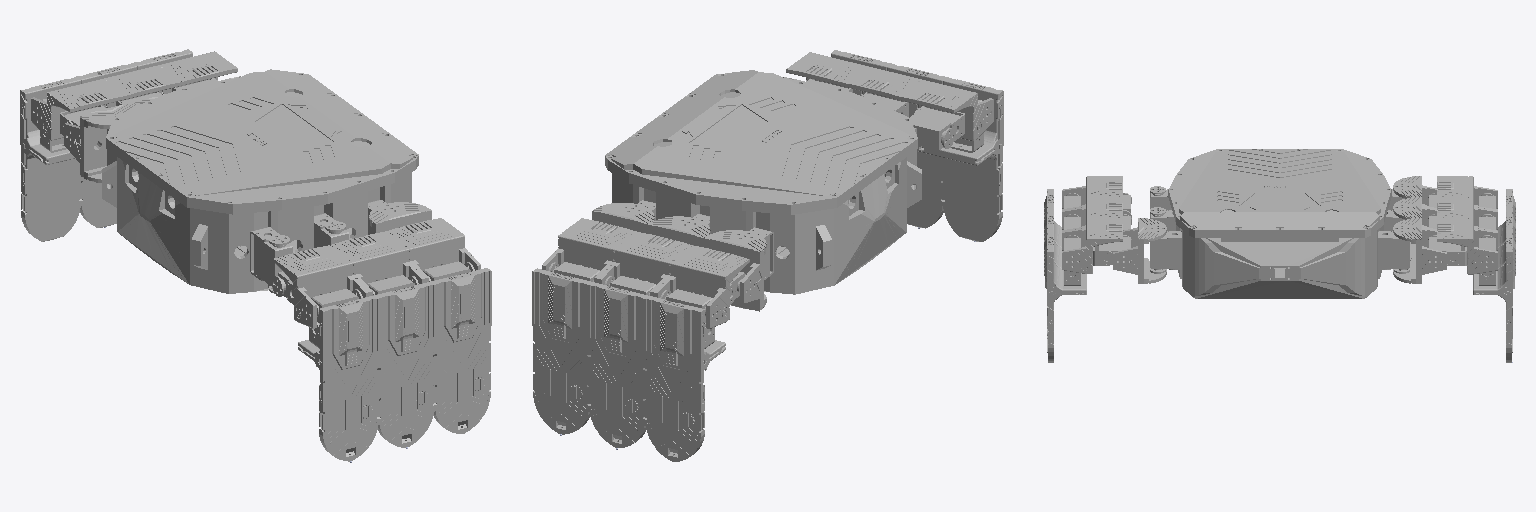
--- Facts derived from the render (not from the file) ---
The picture shows the robot from 3 angles, left to right: view 1: azimuth 30°, elevation 25°; view 2: azimuth 150°, elevation 25°; view 3: azimuth 270°, elevation 25°; orthographic projection.
Model Leizhuo_UnderWaterHexapodRobot with 37 links and 36 joints (36 revolute), rooted at base_link, posed every joint at zero.
Visible links, largest first — view 1: base_link, RB_XI_LINK, RM_XI_LINK, RF_XI_LINK, LB_XI_LINK, RB_ZHOU_LINK, LB_ZHOU_LINK, RF_ZHOU_LINK, RM_ZHOU_LINK, LB_JIAN_LINK, LM_ZHOU_LINK, LM_XI_LINK (+2 smaller); view 2: base_link, LB_XI_LINK, LM_XI_LINK, LF_XI_LINK, RB_XI_LINK, RB_ZHOU_LINK, LB_ZHOU_LINK, LF_ZHOU_LINK, LM_ZHOU_LINK, LB_JIAN_LINK, RM_XI_LINK, RM_ZHOU_LINK (+3 smaller); view 3: base_link, LF_ZHOU_LINK, RF_ZHOU_LINK, RF_XI_LINK, LF_XI_LINK, RF_JIAN_LINK, LF_JIAN_LINK, RB_ZHOU_LINK, RM_ZHOU_LINK, LB_ZHOU_LINK, LM_ZHOU_LINK, LM_JIAN_LINK (+5 smaller).
Link boxes in pixels (box(x1,y1,x2,y2)): base_link: box(102, 69, 418, 293); RB_XI_LINK: box(298, 289, 378, 461); RM_XI_LINK: box(367, 275, 435, 447); RF_XI_LINK: box(423, 261, 491, 433); LB_XI_LINK: box(20, 76, 80, 241); RB_ZHOU_LINK: box(272, 245, 368, 328); LB_ZHOU_LINK: box(31, 79, 125, 145); RF_ZHOU_LINK: box(386, 218, 480, 282); RM_ZHOU_LINK: box(330, 231, 424, 295); LB_JIAN_LINK: box(64, 102, 138, 183); LM_ZHOU_LINK: box(104, 65, 181, 107); LM_XI_LINK: box(77, 63, 136, 227); base_link: box(605, 70, 921, 294); LB_XI_LINK: box(645, 289, 725, 461); LM_XI_LINK: box(588, 276, 655, 447); LF_XI_LINK: box(532, 262, 599, 434); RB_XI_LINK: box(922, 77, 1003, 241); RB_ZHOU_LINK: box(898, 80, 993, 149); LB_ZHOU_LINK: box(654, 246, 749, 328); LF_ZHOU_LINK: box(542, 218, 636, 282); LM_ZHOU_LINK: box(598, 232, 693, 296); LB_JIAN_LINK: box(704, 230, 766, 311); RM_XI_LINK: box(887, 63, 946, 228); RM_ZHOU_LINK: box(842, 66, 921, 117); base_link: box(1150, 149, 1409, 298); LF_ZHOU_LINK: box(1428, 218, 1497, 274); RF_ZHOU_LINK: box(1062, 218, 1131, 273); RF_XI_LINK: box(1044, 231, 1086, 362); LF_XI_LINK: box(1473, 231, 1515, 362); RF_JIAN_LINK: box(1113, 218, 1166, 283); LF_JIAN_LINK: box(1393, 218, 1446, 283); RB_ZHOU_LINK: box(1062, 176, 1131, 217); RM_ZHOU_LINK: box(1062, 197, 1131, 231); LB_ZHOU_LINK: box(1428, 176, 1497, 210); LM_ZHOU_LINK: box(1428, 197, 1497, 231); LM_JIAN_LINK: box(1393, 197, 1436, 260).
Size in the robot's own frame: 0.2538 by 0.5776 by 0.2119 metres.
Meshes: 37 distinct files referenced, 23 mesh visuals loaded (23 binary STL); not drawn: 14 (reference not matched to a file when rendering).

The robot description file, URDF, robot "Leizhuo_UnderWaterHexapodRobot":
<?xml version="1.0" encoding="utf-8"?>
<!-- This URDF was automatically created by SolidWorks to URDF Exporter! Originally created by Stephen Brawner ([email redacted]) 
     Commit Version: 1.6.0-4-g7f85cfe  Build Version: 1.6.7995.38578
     For more information, please see http://wiki.ros.org/sw_urdf_exporter -->
<robot
  name="Leizhuo_UnderWaterHexapodRobot">
  <link
    name="base_link">
    <inertial>
      <origin
        xyz="0.0140644642154403 8.12148635065402E-07 -0.00285537249700155"
        rpy="0 0 0" />
      <mass
        value="1.86312414553283" />
      <inertia
        ixx="0.0103958684186078"
        ixy="4.19274043488902E-07"
        ixz="-0.00029958408384001"
        iyy="0.0108668461966651"
        iyz="5.17077755968618E-07"
        izz="0.0189300328088789" />
    </inertial>
    <visual>
      <origin
        xyz="0 0 0"
        rpy="0 0 0" />
      <geometry>
        <mesh
          filename="package://Leizhuo_UnderWaterHexapodRobot/meshes/base_link.STL" />
      </geometry>
      <material
        name="">
        <color
          rgba="0.752941176470588 0.752941176470588 0.752941176470588 1" />
      </material>
    </visual>
    <collision>
      <origin
        xyz="0 0 0"
        rpy="0 0 0" />
      <geometry>
        <mesh
          filename="package://Leizhuo_UnderWaterHexapodRobot/meshes/base_link.STL" />
      </geometry>
    </collision>
  </link>
  <link
    name="RM_JIAN_LINK">
    <inertial>
      <origin
        xyz="0.0196773637758696 5.55111512312578E-17 -5.16151762313538E-06"
        rpy="0 0 0" />
      <mass
        value="0.0549972808983075" />
      <inertia
        ixx="4.23010594926854E-05"
        ixy="-1.3566991482621E-21"
        ixz="1.35585489027472E-09"
        iyy="2.86824937380955E-05"
        iyz="-1.50417145504381E-21"
        izz="2.6351810532033E-05" />
    </inertial>
    <visual>
      <origin
        xyz="0 0 0"
        rpy="0 0 0" />
      <geometry>
        <mesh
          filename="package://Leizhuo_UnderWaterHexapodRobot/meshes/RM_JIAN_LINK.STL" />
      </geometry>
      <material
        name="">
        <color
          rgba="0.752941176470588 0.752941176470588 0.752941176470588 1" />
      </material>
    </visual>
    <collision>
      <origin
        xyz="0 0 0"
        rpy="0 0 0" />
      <geometry>
        <mesh
          filename="package://Leizhuo_UnderWaterHexapodRobot/meshes/RM_JIAN_LINK.STL" />
      </geometry>
    </collision>
  </link>
  <joint
    name="RM_JIAN_JOINT"
    type="revolute">
    <origin
      xyz="0 -0.14979 -0.0032"
      rpy="0 0 -1.5708" />
    <parent
      link="base_link" />
    <child
      link="RM_JIAN_LINK" />
    <axis
      xyz="0 0 1" />
    <limit
      lower="-1.5708"
      upper="1.5708"
      effort="0"
      velocity="0" />
  </joint>
  <link
    name="RM_ZHOU_LINK">
    <inertial>
      <origin
        xyz="0.0273253277440405 0.00746540118277407 4.77014552013322E-05"
        rpy="0 0 0" />
      <mass
        value="0.0896688686339838" />
      <inertia
        ixx="3.90649680814428E-05"
        ixy="7.26305459227445E-06"
        ixz="6.19794490507559E-08"
        iyy="4.18346884886829E-05"
        iyz="-1.1410981612624E-10"
        izz="2.91896419363059E-05" />
    </inertial>
    <visual>
      <origin
        xyz="0 0 0"
        rpy="0 0 0" />
      <geometry>
        <mesh
          filename="package://Leizhuo_UnderWaterHexapodRobot/meshes/RM_ZHOU_LINK.STL" />
      </geometry>
      <material
        name="">
        <color
          rgba="0.752941176470588 0.752941176470588 0.752941176470588 1" />
      </material>
    </visual>
    <collision>
      <origin
        xyz="0 0 0"
        rpy="0 0 0" />
      <geometry>
        <mesh
          filename="package://Leizhuo_UnderWaterHexapodRobot/meshes/RM_ZHOU_LINK.STL" />
      </geometry>
    </collision>
  </link>
  <joint
    name="RM_ZHOU_JOINT"
    type="revolute">
    <origin
      xyz="0.0415 -0.0004 0"
      rpy="1.5708 0 0" />
    <parent
      link="RM_JIAN_LINK" />
    <child
      link="RM_ZHOU_LINK" />
    <axis
      xyz="0 0 1" />
    <limit
      lower="-1.5708"
      upper="1.5708"
      effort="0"
      velocity="0" />
  </joint>
  <link
    name="RM_XI_LINK">
    <inertial>
      <origin
        xyz="0.0456240041232431 0.016713303171313 -4.28951188229942E-05"
        rpy="0 0 0" />
      <mass
        value="0.151186314817192" />
      <inertia
        ixx="5.25757095356791E-05"
        ixy="-6.3554697994671E-06"
        ixz="4.66190861095013E-08"
        iyy="0.000227814075117788"
        iyz="7.31689308620056E-09"
        izz="0.000204493892166539" />
    </inertial>
    <visual>
      <origin
        xyz="0 0 0"
        rpy="0 0 0" />
      <geometry>
        <mesh
          filename="package://Leizhuo_UnderWaterHexapodRobot/meshes/RM_XI_LINK.STL" />
      </geometry>
      <material
        name="">
        <color
          rgba="0.752941176470588 0.752941176470588 0.752941176470588 1" />
      </material>
    </visual>
    <collision>
      <origin
        xyz="0 0 0"
        rpy="0 0 0" />
      <geometry>
        <mesh
          filename="package://Leizhuo_UnderWaterHexapodRobot/meshes/RM_XI_LINK.STL" />
      </geometry>
    </collision>
  </link>
  <joint
    name="RM_XI_JOINT"
    type="revolute">
    <origin
      xyz="0.063 0 -0.0004"
      rpy="0 0 -1.5708" />
    <parent
      link="RM_ZHOU_LINK" />
    <child
      link="RM_XI_LINK" />
    <axis
      xyz="0 0 -1" />
    <limit
      lower="-1.5708"
      upper="1.5708"
      effort="0"
      velocity="0" />
  </joint>
  <link
    name="RM_R_LINK">
    <inertial>
      <origin
        xyz="-5.55111512312578E-17 0 -2.77555756156289E-17"
        rpy="0 0 0" />
      <mass
        value="4.18879020478639E-06" />
      <inertia
        ixx="1.67551608191456E-12"
        ixy="3.58732406867153E-43"
        ixz="9.18354961579912E-41"
        iyy="1.67551608191456E-12"
        iyz="-4.37989597684327E-38"
        izz="1.67551608191456E-12" />
    </inertial>
    <visual>
      <origin
        xyz="0 0 0"
        rpy="0 0 0" />
      <geometry>
        <mesh
          filename="package://Leizhuo_UnderWaterHexapodRobot/meshes/RM_R_LINK.STL" />
      </geometry>
      <material
        name="">
        <color
          rgba="0.792156862745098 0.819607843137255 0.933333333333333 1" />
      </material>
    </visual>
    <collision>
      <origin
        xyz="0 0 0"
        rpy="0 0 0" />
      <geometry>
        <mesh
          filename="package://Leizhuo_UnderWaterHexapodRobot/meshes/RM_R_LINK.STL" />
      </geometry>
    </collision>
  </link>
  <joint
    name="RM_R_JOINT"
    type="revolute">
    <origin
      xyz="0.15047 0.0305 0"
      rpy="3.1416 1.5708 0" />
    <parent
      link="RM_XI_LINK" />
    <child
      link="RM_R_LINK" />
    <axis
      xyz="0 0 -1" />
    <limit
      lower="-1.5708"
      upper="1.5708"
      effort="0"
      velocity="0" />
  </joint>
  <link
    name="RM_P_LINK">
    <inertial>
      <origin
        xyz="2.77555756156289E-17 0 -5.55111512312578E-17"
        rpy="0 0 0" />
      <mass
        value="4.18879020478639E-06" />
      <inertia
        ixx="1.67551608191456E-12"
        ixy="4.37989597684327E-38"
        ixz="0"
        iyy="1.67551608191456E-12"
        iyz="3.58732406867153E-43"
        izz="1.67551608191456E-12" />
    </inertial>
    <visual>
      <origin
        xyz="0 0 0"
        rpy="0 0 0" />
      <geometry>
        <mesh
          filename="package://Leizhuo_UnderWaterHexapodRobot/meshes/RM_P_LINK.STL" />
      </geometry>
      <material
        name="">
        <color
          rgba="0.792156862745098 0.819607843137255 0.933333333333333 1" />
      </material>
    </visual>
    <collision>
      <origin
        xyz="0 0 0"
        rpy="0 0 0" />
      <geometry>
        <mesh
          filename="package://Leizhuo_UnderWaterHexapodRobot/meshes/RM_P_LINK.STL" />
      </geometry>
    </collision>
  </link>
  <joint
    name="RM_P_LINK"
    type="revolute">
    <origin
      xyz="0 0 0"
      rpy="0 1.5708 0" />
    <parent
      link="RM_R_LINK" />
    <child
      link="RM_P_LINK" />
    <axis
      xyz="0 0 -1" />
    <limit
      lower="-1.5708"
      upper="1.5708"
      effort="0"
      velocity="0" />
  </joint>
  <link
    name="RM_Y_LINK">
    <inertial>
      <origin
        xyz="2.77555756156289E-17 -5.55111512312578E-17 0"
        rpy="0 0 0" />
      <mass
        value="4.18879020478639E-06" />
      <inertia
        ixx="1.67551608191456E-12"
        ixy="-9.18354961579912E-41"
        ixz="-4.37988700853309E-38"
        iyy="1.67551608191456E-12"
        iyz="0"
        izz="1.67551608191456E-12" />
    </inertial>
    <visual>
      <origin
        xyz="0 0 0"
        rpy="0 0 0" />
      <geometry>
        <mesh
          filename="package://Leizhuo_UnderWaterHexapodRobot/meshes/RM_Y_LINK.STL" />
      </geometry>
      <material
        name="">
        <color
          rgba="0.792156862745098 0.819607843137255 0.933333333333333 1" />
      </material>
    </visual>
    <collision>
      <origin
        xyz="0 0 0"
        rpy="0 0 0" />
      <geometry>
        <mesh
          filename="package://Leizhuo_UnderWaterHexapodRobot/meshes/RM_Y_LINK.STL" />
      </geometry>
    </collision>
  </link>
  <joint
    name="RM_Y_JOINT"
    type="revolute">
    <origin
      xyz="0 0 0"
      rpy="1.5708 0 0" />
    <parent
      link="RM_P_LINK" />
    <child
      link="RM_Y_LINK" />
    <axis
      xyz="0 0 -1" />
    <limit
      lower="-1.5708"
      upper="1.5708"
      effort="0"
      velocity="0" />
  </joint>
  <link
    name="RF_JIAN_LINK">
    <inertial>
      <origin
        xyz="0.0196773637758696 5.55111512312578E-17 -5.16151762312844E-06"
        rpy="0 0 0" />
      <mass
        value="0.0549972808983075" />
      <inertia
        ixx="4.23010594926854E-05"
        ixy="3.17831599643912E-21"
        ixz="1.35585489027564E-09"
        iyy="2.86824937380955E-05"
        iyz="2.81893688903335E-21"
        izz="2.6351810532033E-05" />
    </inertial>
    <visual>
      <origin
        xyz="0 0 0"
        rpy="0 0 0" />
      <geometry>
        <mesh
          filename="package://Leizhuo_UnderWaterHexapodRobot/meshes/RF_JIAN_LINK.STL" />
      </geometry>
      <material
        name="">
        <color
          rgba="0.752941176470588 0.752941176470588 0.752941176470588 1" />
      </material>
    </visual>
    <collision>
      <origin
        xyz="0 0 0"
        rpy="0 0 0" />
      <geometry>
        <mesh
          filename="package://Leizhuo_UnderWaterHexapodRobot/meshes/RF_JIAN_LINK.STL" />
      </geometry>
    </collision>
  </link>
  <joint
    name="RF_JIAN_JOINT"
    type="revolute">
    <origin
      xyz="0.061 -0.14979 -0.0032"
      rpy="0 0 -1.5708" />
    <parent
      link="base_link" />
    <child
      link="RF_JIAN_LINK" />
    <axis
      xyz="0 0 1" />
    <limit
      lower="-1.5708"
      upper="1.5708"
      effort="0"
      velocity="0" />
  </joint>
  <link
    name="RF_ZHOU_LINK">
    <inertial>
      <origin
        xyz="0.0273253277440404 0.00746540118277408 4.77014552013322E-05"
        rpy="0 0 0" />
      <mass
        value="0.0896688686339835" />
      <inertia
        ixx="3.90649680814426E-05"
        ixy="7.26305459227434E-06"
        ixz="6.19794490508564E-08"
        iyy="4.18346884886825E-05"
        iyz="-1.14109816095196E-10"
        izz="2.91896419363056E-05" />
    </inertial>
    <visual>
      <origin
        xyz="0 0 0"
        rpy="0 0 0" />
      <geometry>
        <mesh
          filename="package://Leizhuo_UnderWaterHexapodRobot/meshes/RF_ZHOU_LINK.STL" />
      </geometry>
      <material
        name="">
        <color
          rgba="0.752941176470588 0.752941176470588 0.752941176470588 1" />
      </material>
    </visual>
    <collision>
      <origin
        xyz="0 0 0"
        rpy="0 0 0" />
      <geometry>
        <mesh
          filename="package://Leizhuo_UnderWaterHexapodRobot/meshes/RF_ZHOU_LINK.STL" />
      </geometry>
    </collision>
  </link>
  <joint
    name="RF_ZHOU_JOINT"
    type="revolute">
    <origin
      xyz="0.0415 -0.0004 0"
      rpy="1.5708 0 0" />
    <parent
      link="RF_JIAN_LINK" />
    <child
      link="RF_ZHOU_LINK" />
    <axis
      xyz="0 0 1" />
    <limit
      lower="-1.5708"
      upper="1.5708"
      effort="0"
      velocity="0" />
  </joint>
  <link
    name="RF_XI_LINK">
    <inertial>
      <origin
        xyz="0.0456240042302304 0.0167133031666421 -4.28951844866909E-05"
        rpy="0 0 0" />
      <mass
        value="0.151186314373616" />
      <inertia
        ixx="5.25757092902444E-05"
        ixy="-6.35546973733345E-06"
        ixz="4.66185774839964E-08"
        iyy="0.00022781407378131"
        iyz="7.31686178510528E-09"
        izz="0.000204493891057307" />
    </inertial>
    <visual>
      <origin
        xyz="0 0 0"
        rpy="0 0 0" />
      <geometry>
        <mesh
          filename="package://Leizhuo_UnderWaterHexapodRobot/meshes/RF_XI_LINK.STL" />
      </geometry>
      <material
        name="">
        <color
          rgba="0.752941176470588 0.752941176470588 0.752941176470588 1" />
      </material>
    </visual>
    <collision>
      <origin
        xyz="0 0 0"
        rpy="0 0 0" />
      <geometry>
        <mesh
          filename="package://Leizhuo_UnderWaterHexapodRobot/meshes/RF_XI_LINK.STL" />
      </geometry>
    </collision>
  </link>
  <joint
    name="RF_XI_JOINT"
    type="revolute">
    <origin
      xyz="0.063 0 -0.0004"
      rpy="0 0 -1.5708" />
    <parent
      link="RF_ZHOU_LINK" />
    <child
      link="RF_XI_LINK" />
    <axis
      xyz="0 0 -1" />
    <limit
      lower="-1.5708"
      upper="1.5708"
      effort="0"
      velocity="0" />
  </joint>
  <link
    name="RF_R_LINK">
    <inertial>
      <origin
        xyz="-5.55111512312578E-17 0 0"
        rpy="0 0 0" />
      <mass
        value="4.18879020478639E-06" />
      <inertia
        ixx="1.67551608191456E-12"
        ixy="3.58732406867153E-43"
        ixz="9.18354961579912E-41"
        iyy="1.67551608191456E-12"
        iyz="-4.37989597684327E-38"
        izz="1.67551608191456E-12" />
    </inertial>
    <visual>
      <origin
        xyz="0 0 0"
        rpy="0 0 0" />
      <geometry>
        <mesh
          filename="package://Leizhuo_UnderWaterHexapodRobot/meshes/RF_R_LINK.STL" />
      </geometry>
      <material
        name="">
        <color
          rgba="0.792156862745098 0.819607843137255 0.933333333333333 1" />
      </material>
    </visual>
    <collision>
      <origin
        xyz="0 0 0"
        rpy="0 0 0" />
      <geometry>
        <mesh
          filename="package://Leizhuo_UnderWaterHexapodRobot/meshes/RF_R_LINK.STL" />
      </geometry>
    </collision>
  </link>
  <joint
    name="RF_R_JOINT"
    type="revolute">
    <origin
      xyz="0.15047 0.0305 0"
      rpy="3.1416 1.5708 0" />
    <parent
      link="RF_XI_LINK" />
    <child
      link="RF_R_LINK" />
    <axis
      xyz="0 0 -1" />
    <limit
      lower="-1.5708"
      upper="1.5708"
      effort="0"
      velocity="0" />
  </joint>
  <link
    name="RF_P_LINK">
    <inertial>
      <origin
        xyz="0 0 -5.55111512312578E-17"
        rpy="0 0 0" />
      <mass
        value="4.18879020478639E-06" />
      <inertia
        ixx="1.67551608191456E-12"
        ixy="4.37989597684327E-38"
        ixz="0"
        iyy="1.67551608191456E-12"
        iyz="3.58732406867153E-43"
        izz="1.67551608191456E-12" />
    </inertial>
    <visual>
      <origin
        xyz="0 0 0"
        rpy="0 0 0" />
      <geometry>
        <mesh
          filename="package://Leizhuo_UnderWaterHexapodRobot/meshes/RF_P_LINK.STL" />
      </geometry>
      <material
        name="">
        <color
          rgba="0.792156862745098 0.819607843137255 0.933333333333333 1" />
      </material>
    </visual>
    <collision>
      <origin
        xyz="0 0 0"
        rpy="0 0 0" />
      <geometry>
        <mesh
          filename="package://Leizhuo_UnderWaterHexapodRobot/meshes/RF_P_LINK.STL" />
      </geometry>
    </collision>
  </link>
  <joint
    name="RF_P_JOINT"
    type="revolute">
    <origin
      xyz="0 0 0"
      rpy="0 1.5708 0" />
    <parent
      link="RF_R_LINK" />
    <child
      link="RF_P_LINK" />
    <axis
      xyz="0 0 -1" />
    <limit
      lower="-1.5708"
      upper="1.5708"
      effort="0"
      velocity="0" />
  </joint>
  <link
    name="RF_Y_LINK">
    <inertial>
      <origin
        xyz="0 -5.55111512312578E-17 0"
        rpy="0 0 0" />
      <mass
        value="4.18879020478639E-06" />
      <inertia
        ixx="1.67551608191456E-12"
        ixy="-9.18354961579912E-41"
        ixz="-4.37988700853309E-38"
        iyy="1.67551608191456E-12"
        iyz="0"
        izz="1.67551608191456E-12" />
    </inertial>
    <visual>
      <origin
        xyz="0 0 0"
        rpy="0 0 0" />
      <geometry>
        <mesh
          filename="package://Leizhuo_UnderWaterHexapodRobot/meshes/RF_Y_LINK.STL" />
      </geometry>
      <material
        name="">
        <color
          rgba="0.792156862745098 0.819607843137255 0.933333333333333 1" />
      </material>
    </visual>
    <collision>
      <origin
        xyz="0 0 0"
        rpy="0 0 0" />
      <geometry>
        <mesh
          filename="package://Leizhuo_UnderWaterHexapodRobot/meshes/RF_Y_LINK.STL" />
      </geometry>
    </collision>
  </link>
  <joint
    name="RF_Y_JOINT"
    type="revolute">
    <origin
      xyz="0 0 0"
      rpy="1.5708 0 0" />
    <parent
      link="RF_P_LINK" />
    <child
      link="RF_Y_LINK" />
    <axis
      xyz="0 0 -1" />
    <limit
      lower="-1.5708"
      upper="1.5708"
      effort="0"
      velocity="0" />
  </joint>
  <link
    name="LF_JIAN_LINK">
    <inertial>
      <origin
        xyz="0.0196773637758696 -5.55111512312578E-17 -5.16151762314232E-06"
        rpy="0 0 0" />
      <mass
        value="0.0549972808983075" />
      <inertia
        ixx="4.23010594926854E-05"
        ixy="7.45006923162369E-21"
        ixz="1.35585489027197E-09"
        iyy="2.86824937380955E-05"
        iyz="3.35178306925782E-21"
        izz="2.6351810532033E-05" />
    </inertial>
    <visual>
      <origin
        xyz="0 0 0"
        rpy="0 0 0" />
      <geometry>
        <mesh
          filename="package://Leizhuo_UnderWaterHexapodRobot/meshes/LF_JIAN_LINK.STL" />
      </geometry>
      <material
        name="">
        <color
          rgba="0.752941176470588 0.752941176470588 0.752941176470588 1" />
      </material>
    </visual>
    <collision>
      <origin
        xyz="0 0 0"
        rpy="0 0 0" />
      <geometry>
        <mesh
          filename="package://Leizhuo_UnderWaterHexapodRobot/meshes/LF_JIAN_LINK.STL" />
      </geometry>
    </collision>
  </link>
  <joint
    name="LF_JIAN_JOINT"
    type="revolute">
    <origin
      xyz="0.061 0.14979 -0.0032"
      rpy="0 0 1.5708" />
    <parent
      link="base_link" />
    <child
      link="LF_JIAN_LINK" />
    <axis
      xyz="0 0 1" />
    <limit
      lower="-1.5708"
      upper="1.5708"
      effort="0"
      velocity="0" />
  </joint>
  <link
    name="LF_ZHOU_LINK">
    <inertial>
      <origin
        xyz="0.0273253277440404 0.00746540118277409 4.77014552012212E-05"
        rpy="0 0 0" />
      <mass
        value="0.0896688686339838" />
      <inertia
        ixx="3.90649680814427E-05"
        ixy="7.26305459227442E-06"
        ixz="6.19794490507996E-08"
        iyy="4.18346884886828E-05"
        iyz="-1.14109816157686E-10"
        izz="2.91896419363058E-05" />
    </inertial>
    <visual>
      <origin
        xyz="0 0 0"
        rpy="0 0 0" />
      <geometry>
        <mesh
          filename="package://Leizhuo_UnderWaterHexapodRobot/meshes/LF_ZHOU_LINK.STL" />
      </geometry>
      <material
        name="">
        <color
          rgba="0.752941176470588 0.752941176470588 0.752941176470588 1" />
      </material>
    </visual>
    <collision>
      <origin
        xyz="0 0 0"
        rpy="0 0 0" />
      <geometry>
        <mesh
          filename="package://Leizhuo_UnderWaterHexapodRobot/meshes/LF_ZHOU_LINK.STL" />
      </geometry>
    </collision>
  </link>
  <joint
    name="LF_ZHOU_JOINT"
    type="revolute">
    <origin
      xyz="0.0415 -0.0004 0"
      rpy="1.5708 0 0" />
    <parent
      link="LF_JIAN_LINK" />
    <child
      link="LF_ZHOU_LINK" />
    <axis
      xyz="0 0 1" />
    <limit
      lower="-1.5708"
      upper="1.5708"
      effort="0"
      velocity="0" />
  </joint>
  <link
    name="LF_XI_LINK">
    <inertial>
      <origin
        xyz="0.0456240041232434 0.0167133031713129 -4.28951188230497E-05"
        rpy="0 0 0" />
      <mass
        value="0.151186314817191" />
      <inertia
        ixx="5.25757095356789E-05"
        ixy="-6.35546979946716E-06"
        ixz="4.66190861086835E-08"
        iyy="0.000227814075117784"
        iyz="7.31689308622861E-09"
        izz="0.000204493892166536" />
    </inertial>
    <visual>
      <origin
        xyz="0 0 0"
        rpy="0 0 0" />
      <geometry>
        <mesh
          filename="package://Leizhuo_UnderWaterHexapodRobot/meshes/LF_XI_LINK.STL" />
      </geometry>
      <material
        name="">
        <color
          rgba="0.752941176470588 0.752941176470588 0.752941176470588 1" />
      </material>
    </visual>
    <collision>
      <origin
        xyz="0 0 0"
        rpy="0 0 0" />
      <geometry>
        <mesh
          filename="package://Leizhuo_UnderWaterHexapodRobot/meshes/LF_XI_LINK.STL" />
      </geometry>
    </collision>
  </link>
  <joint
    name="LF_XI_JOINT"
    type="revolute">
    <origin
      xyz="0.063 0 -0.0004"
      rpy="0 0 -1.5708" />
    <parent
      link="LF_ZHOU_LINK" />
    <child
      link="LF_XI_LINK" />
    <axis
      xyz="0 0 -1" />
    <limit
      lower="-1.5708"
      upper="1.5708"
      effort="0"
      velocity="0" />
  </joint>
  <link
    name="LF_R_LINK">
    <inertial>
      <origin
        xyz="0 5.55111512312578E-17 0"
        rpy="0 0 0" />
      <mass
        value="4.18879020478639E-06" />
      <inertia
        ixx="1.67551608191456E-12"
        ixy="3.58732406867153E-43"
        ixz="9.18354961579912E-41"
        iyy="1.67551608191456E-12"
        iyz="-4.37989597684327E-38"
        izz="1.67551608191456E-12" />
    </inertial>
    <visual>
      <origin
        xyz="0 0 0"
        rpy="0 0 0" />
      <geometry>
        <mesh
          filename="package://Leizhuo_UnderWaterHexapodRobot/meshes/LF_R_LINK.STL" />
      </geometry>
      <material
        name="">
        <color
          rgba="0.792156862745098 0.819607843137255 0.933333333333333 1" />
      </material>
    </visual>
    <collision>
      <origin
        xyz="0 0 0"
        rpy="0 0 0" />
      <geometry>
        <mesh
          filename="package://Leizhuo_UnderWaterHexapodRobot/meshes/LF_R_LINK.STL" />
      </geometry>
    </collision>
  </link>
  <joint
    name="LF_R_JOINT"
    type="revolute">
    <origin
      xyz="0.15047 0.0305 0"
      rpy="3.1416 -1.5708 0" />
    <parent
      link="LF_XI_LINK" />
    <child
      link="LF_R_LINK" />
    <axis
      xyz="0 0 -1" />
    <limit
      lower="-1.5708"
      upper="1.5708"
      effort="0"
      velocity="0" />
  </joint>
  <link
    name="LF_P_LINK">
    <inertial>
      <origin
        xyz="0 5.55111512312578E-17 0"
        rpy="0 0 0" />
      <mass
        value="4.18879020478639E-06" />
      <inertia
        ixx="1.67551608191456E-12"
        ixy="4.37989597684327E-38"
        ixz="0"
        iyy="1.67551608191456E-12"
        iyz="3.58732406867153E-43"
        izz="1.67551608191456E-12" />
    </inertial>
    <visual>
      <origin
        xyz="0 0 0"
        rpy="0 0 0" />
      <geometry>
        <mesh
          filename="package://Leizhuo_UnderWaterHexapodRobot/meshes/LF_P_LINK.STL" />
      </geometry>
      <material
        name="">
        <color
          rgba="0.792156862745098 0.819607843137255 0.933333333333333 1" />
      </material>
    </visual>
    <collision>
      <origin
        xyz="0 0 0"
        rpy="0 0 0" />
      <geometry>
        <mesh
          filename="package://Leizhuo_UnderWaterHexapodRobot/meshes/LF_P_LINK.STL" />
      </geometry>
    </collision>
  </link>
  <joint
    name="LF_P_JOINT"
    type="revolute">
    <origin
      xyz="0 0 0"
      rpy="0 1.5708 0" />
    <parent
      link="LF_R_LINK" />
    <child
      link="LF_P_LINK" />
    <axis
      xyz="0 0 -1" />
    <limit
      lower="-1.5708"
      upper="1.5708"
      effort="0"
      velocity="0" />
  </joint>
  <link
    name="LF_Y_LINK">
    <inertial>
      <origin
        xyz="0 0 -5.55111512312578E-17"
        rpy="0 0 0" />
      <mass
        value="4.18879020478639E-06" />
      <inertia
        ixx="1.67551608191456E-12"
        ixy="-9.18354961579912E-41"
        ixz="-4.37988700853309E-38"
        iyy="1.67551608191456E-12"
        iyz="0"
        izz="1.67551608191456E-12" />
    </inertial>
    <visual>
      <origin
        xyz="0 0 0"
        rpy="0 0 0" />
      <geometry>
        <mesh
          filename="package://Leizhuo_UnderWaterHexapodRobot/meshes/LF_Y_LINK.STL" />
      </geometry>
      <material
        name="">
        <color
          rgba="0.792156862745098 0.819607843137255 0.933333333333333 1" />
      </material>
    </visual>
    <collision>
      <origin
        xyz="0 0 0"
        rpy="0 0 0" />
      <geometry>
        <mesh
          filename="package://Leizhuo_UnderWaterHexapodRobot/meshes/LF_Y_LINK.STL" />
      </geometry>
    </collision>
  </link>
  <joint
    name="LF_Y_JOINT"
    type="revolute">
    <origin
      xyz="0 0 0"
      rpy="1.5708 0 0" />
    <parent
      link="LF_P_LINK" />
    <child
      link="LF_Y_LINK" />
    <axis
      xyz="0 0 -1" />
    <limit
      lower="-1.5708"
      upper="1.5708"
      effort="0"
      velocity="0" />
  </joint>
  <link
    name="LM_JIAN_LINK">
    <inertial>
      <origin
        xyz="0.0196773637758696 -5.55111512312578E-17 -5.16151762314926E-06"
        rpy="0 0 0" />
      <mass
        value="0.0549972808983076" />
      <inertia
        ixx="4.23010594926855E-05"
        ixy="1.36600939672745E-21"
        ixz="1.35585489027903E-09"
        iyy="2.86824937380956E-05"
        iyz="-2.09688676938112E-21"
        izz="2.63518105320331E-05" />
    </inertial>
    <visual>
      <origin
        xyz="0 0 0"
        rpy="0 0 0" />
      <geometry>
        <mesh
          filename="package://Leizhuo_UnderWaterHexapodRobot/meshes/LM_JIAN_LINK.STL" />
      </geometry>
      <material
        name="">
        <color
          rgba="0.752941176470588 0.752941176470588 0.752941176470588 1" />
      </material>
    </visual>
    <collision>
      <origin
        xyz="0 0 0"
        rpy="0 0 0" />
      <geometry>
        <mesh
          filename="package://Leizhuo_UnderWaterHexapodRobot/meshes/LM_JIAN_LINK.STL" />
      </geometry>
    </collision>
  </link>
  <joint
    name="LM_JIAN_JOINT"
    type="revolute">
    <origin
      xyz="0 0.14979 -0.0032"
      rpy="0 0 1.5708" />
    <parent
      link="base_link" />
    <child
      link="LM_JIAN_LINK" />
    <axis
      xyz="0 0 1" />
    <limit
      lower="-1.5708"
      upper="1.5708"
      effort="0"
      velocity="0" />
  </joint>
  <link
    name="LM_ZHOU_LINK">
    <inertial>
      <origin
        xyz="0.0273253277440405 0.00746540118277408 4.77014552012212E-05"
        rpy="0 0 0" />
      <mass
        value="0.0896688686339835" />
      <inertia
        ixx="3.90649680814426E-05"
        ixy="7.26305459227438E-06"
        ixz="6.19794490508138E-08"
        iyy="4.18346884886827E-05"
        iyz="-1.14109816126972E-10"
        izz="2.91896419363057E-05" />
    </inertial>
    <visual>
      <origin
        xyz="0 0 0"
        rpy="0 0 0" />
      <geometry>
        <mesh
          filename="package://Leizhuo_UnderWaterHexapodRobot/meshes/LM_ZHOU_LINK.STL" />
      </geometry>
      <material
        name="">
        <color
          rgba="0.752941176470588 0.752941176470588 0.752941176470588 1" />
      </material>
    </visual>
    <collision>
      <origin
        xyz="0 0 0"
        rpy="0 0 0" />
      <geometry>
        <mesh
          filename="package://Leizhuo_UnderWaterHexapodRobot/meshes/LM_ZHOU_LINK.STL" />
      </geometry>
    </collision>
  </link>
  <joint
    name="LM_ZHOU_JOINT"
    type="revolute">
    <origin
      xyz="0.0415 -0.0004 0"
      rpy="1.5708 0 0" />
    <parent
      link="LM_JIAN_LINK" />
    <child
      link="LM_ZHOU_LINK" />
    <axis
      xyz="0 0 1" />
    <limit
      lower="-1.5708"
      upper="1.5708"
      effort="0"
      velocity="0" />
  </joint>
  <link
    name="LM_XI_LINK">
    <inertial>
      <origin
        xyz="0.0456240042302298 0.0167133031666421 -4.28951844865799E-05"
        rpy="0 0 0" />
      <mass
        value="0.151186314373618" />
      <inertia
        ixx="5.25757092902447E-05"
        ixy="-6.35546973733313E-06"
        ixz="4.66185774853223E-08"
        iyy="0.000227814073781316"
        iyz="7.31686178526951E-09"
        izz="0.000204493891057312" />
    </inertial>
    <visual>
      <origin
        xyz="0 0 0"
        rpy="0 0 0" />
      <geometry>
        <mesh
          filename="package://Leizhuo_UnderWaterHexapodRobot/meshes/LM_XI_LINK.STL" />
      </geometry>
      <material
        name="">
        <color
          rgba="0.752941176470588 0.752941176470588 0.752941176470588 1" />
      </material>
    </visual>
    <collision>
      <origin
        xyz="0 0 0"
        rpy="0 0 0" />
      <geometry>
        <mesh
          filename="package://Leizhuo_UnderWaterHexapodRobot/meshes/LM_XI_LINK.STL" />
      </geometry>
    </collision>
  </link>
  <joint
    name="LM_XI_JOINT"
    type="revolute">
    <origin
      xyz="0.063 0 -0.0004"
      rpy="0 0 -1.5708" />
    <parent
      link="LM_ZHOU_LINK" />
    <child
      link="LM_XI_LINK" />
    <axis
      xyz="0 0 -1" />
    <limit
      lower="-1.5708"
      upper="1.5708"
      effort="0"
      velocity="0" />
  </joint>
  <link
    name="LM_R_LINK">
    <inertial>
      <origin
        xyz="-5.55111512312578E-17 0 -2.77555756156289E-17"
        rpy="0 0 0" />
      <mass
        value="4.18879020478639E-06" />
      <inertia
        ixx="1.67551608191456E-12"
        ixy="3.58732406867153E-43"
        ixz="9.18354961579912E-41"
        iyy="1.67551608191456E-12"
        iyz="-4.37989597684327E-38"
        izz="1.67551608191456E-12" />
    </inertial>
    <visual>
      <origin
        xyz="0 0 0"
        rpy="0 0 0" />
      <geometry>
        <mesh
          filename="package://Leizhuo_UnderWaterHexapodRobot/meshes/LM_R_LINK.STL" />
      </geometry>
      <material
        name="">
        <color
          rgba="0.792156862745098 0.819607843137255 0.933333333333333 1" />
      </material>
    </visual>
    <collision>
      <origin
        xyz="0 0 0"
        rpy="0 0 0" />
      <geometry>
        <mesh
          filename="package://Leizhuo_UnderWaterHexapodRobot/meshes/LM_R_LINK.STL" />
      </geometry>
    </collision>
  </link>
  <joint
    name="LM_R_JOINT"
    type="revolute">
    <origin
      xyz="0.15047 0.0305 0"
      rpy="3.1416 -1.5708 0" />
    <parent
      link="LM_XI_LINK" />
    <child
      link="LM_R_LINK" />
    <axis
      xyz="0 0 -1" />
    <limit
      lower="-1.5708"
      upper="1.5708"
      effort="0"
      velocity="0" />
  </joint>
  <link
    name="LM_P_LINK">
    <inertial>
      <origin
        xyz="2.77555756156289E-17 0 -5.55111512312578E-17"
        rpy="0 0 0" />
      <mass
        value="4.18879020478639E-06" />
      <inertia
        ixx="1.67551608191456E-12"
        ixy="4.37989597684327E-38"
        ixz="0"
        iyy="1.67551608191456E-12"
        iyz="3.58732406867153E-43"
        izz="1.67551608191456E-12" />
    </inertial>
    <visual>
      <origin
        xyz="0 0 0"
        rpy="0 0 0" />
      <geometry>
        <mesh
          filename="package://Leizhuo_UnderWaterHexapodRobot/meshes/LM_P_LINK.STL" />
      </geometry>
      <material
        name="">
        <color
          rgba="0.792156862745098 0.819607843137255 0.933333333333333 1" />
      </material>
    </visual>
    <collision>
      <origin
        xyz="0 0 0"
        rpy="0 0 0" />
      <geometry>
        <mesh
          filename="package://Leizhuo_UnderWaterHexapodRobot/meshes/LM_P_LINK.STL" />
      </geometry>
    </collision>
  </link>
  <joint
    name="LM_P_JOINT"
    type="revolute">
    <origin
      xyz="0 0 0"
      rpy="0 1.5708 0" />
    <parent
      link="LM_R_LINK" />
    <child
      link="LM_P_LINK" />
    <axis
      xyz="0 0 -1" />
    <limit
      lower="-1.5708"
      upper="1.5708"
      effort="0"
      velocity="0" />
  </joint>
  <link
    name="LM_Y_LINK">
    <inertial>
      <origin
        xyz="2.77555756156289E-17 -5.55111512312578E-17 0"
        rpy="0 0 0" />
      <mass
        value="4.18879020478639E-06" />
      <inertia
        ixx="1.67551608191456E-12"
        ixy="-9.18354961579912E-41"
        ixz="-4.37988700853309E-38"
        iyy="1.67551608191456E-12"
        iyz="0"
        izz="1.67551608191456E-12" />
    </inertial>
    <visual>
      <origin
        xyz="0 0 0"
        rpy="0 0 0" />
      <geometry>
        <mesh
          filename="package://Leizhuo_UnderWaterHexapodRobot/meshes/LM_Y_LINK.STL" />
      </geometry>
      <material
        name="">
        <color
          rgba="0.792156862745098 0.819607843137255 0.933333333333333 1" />
      </material>
    </visual>
    <collision>
      <origin
        xyz="0 0 0"
        rpy="0 0 0" />
      <geometry>
        <mesh
          filename="package://Leizhuo_UnderWaterHexapodRobot/meshes/LM_Y_LINK.STL" />
      </geometry>
    </collision>
  </link>
  <joint
    name="LM_Y_JOINT"
    type="revolute">
    <origin
      xyz="0 0 0"
      rpy="1.5708 0 0" />
    <parent
      link="LM_P_LINK" />
    <child
      link="LM_Y_LINK" />
    <axis
      xyz="0 0 -1" />
    <limit
      lower="-1.5708"
      upper="1.5708"
      effort="0"
      velocity="0" />
  </joint>
  <link
    name="LB_JIAN_LINK">
    <inertial>
      <origin
        xyz="0.0196773637758696 -5.55111512312578E-17 -5.16151762313538E-06"
        rpy="0 0 0" />
      <mass
        value="0.0549972808983075" />
      <inertia
        ixx="4.23010594926854E-05"
        ixy="1.3046252668176E-21"
        ixz="1.35585489027052E-09"
        iyy="2.86824937380955E-05"
        iyz="6.19208968321074E-21"
        izz="2.6351810532033E-05" />
    </inertial>
    <visual>
      <origin
        xyz="0 0 0"
        rpy="0 0 0" />
      <geometry>
        <mesh
          filename="package://Leizhuo_UnderWaterHexapodRobot/meshes/LB_JIAN_LINK.STL" />
      </geometry>
      <material
        name="">
        <color
          rgba="0.752941176470588 0.752941176470588 0.752941176470588 1" />
      </material>
    </visual>
    <collision>
      <origin
        xyz="0 0 0"
        rpy="0 0 0" />
      <geometry>
        <mesh
          filename="package://Leizhuo_UnderWaterHexapodRobot/meshes/LB_JIAN_LINK.STL" />
      </geometry>
    </collision>
  </link>
  <joint
    name="LB_JIAN_JOINT"
    type="revolute">
    <origin
      xyz="-0.061 0.14979 -0.0032"
      rpy="0 0 1.5708" />
    <parent
      link="base_link" />
    <child
      link="LB_JIAN_LINK" />
    <axis
      xyz="0 0 1" />
    <limit
      lower="-1.5708"
      upper="1.5708"
      effort="0"
      velocity="0" />
  </joint>
  <link
    name="LB_ZHOU_LINK">
    <inertial>
      <origin
        xyz="0.0273253277440404 0.0074654011827741 4.77014552014432E-05"
        rpy="0 0 0" />
      <mass
        value="0.0896688686339838" />
      <inertia
        ixx="3.90649680814427E-05"
        ixy="7.26305459227445E-06"
        ixz="6.19794490506186E-08"
        iyy="4.18346884886829E-05"
        iyz="-1.1410981601099E-10"
        izz="2.9189641936306E-05" />
    </inertial>
    <visual>
      <origin
        xyz="0 0 0"
        rpy="0 0 0" />
      <geometry>
        <mesh
          filename="package://Leizhuo_UnderWaterHexapodRobot/meshes/LB_ZHOU_LINK.STL" />
      </geometry>
      <material
        name="">
        <color
          rgba="0.752941176470588 0.752941176470588 0.752941176470588 1" />
      </material>
    </visual>
    <collision>
      <origin
        xyz="0 0 0"
        rpy="0 0 0" />
      <geometry>
        <mesh
          filename="package://Leizhuo_UnderWaterHexapodRobot/meshes/LB_ZHOU_LINK.STL" />
      </geometry>
    </collision>
  </link>
  <joint
    name="LB_ZHOU_JOINT"
    type="revolute">
    <origin
      xyz="0.0415 -0.0004 0"
      rpy="1.5708 0 0" />
    <parent
      link="LB_JIAN_LINK" />
    <child
      link="LB_ZHOU_LINK" />
    <axis
      xyz="0 0 1" />
    <limit
      lower="-1.5708"
      upper="1.5708"
      effort="0"
      velocity="0" />
  </joint>
  <link
    name="LB_XI_LINK">
    <inertial>
      <origin
        xyz="0.0456240042302302 0.0167133031666421 -4.2895184486802E-05"
        rpy="0 0 0" />
      <mass
        value="0.151186314373617" />
      <inertia
        ixx="5.2575709290245E-05"
        ixy="-6.35546973733394E-06"
        ixz="4.66185774841948E-08"
        iyy="0.000227814073781312"
        iyz="7.31686178495679E-09"
        izz="0.000204493891057308" />
    </inertial>
    <visual>
      <origin
        xyz="0 0 0"
        rpy="0 0 0" />
      <geometry>
        <mesh
          filename="package://Leizhuo_UnderWaterHexapodRobot/meshes/LB_XI_LINK.STL" />
      </geometry>
      <material
        name="">
        <color
          rgba="0.752941176470588 0.752941176470588 0.752941176470588 1" />
      </material>
    </visual>
    <collision>
      <origin
        xyz="0 0 0"
        rpy="0 0 0" />
      <geometry>
        <mesh
          filename="package://Leizhuo_UnderWaterHexapodRobot/meshes/LB_XI_LINK.STL" />
      </geometry>
    </collision>
  </link>
  <joint
    name="LB_XI_JOINT"
    type="revolute">
    <origin
      xyz="0.063 0 -0.0004"
      rpy="0 0 -1.5708" />
    <parent
      link="LB_ZHOU_LINK" />
    <child
      link="LB_XI_LINK" />
    <axis
      xyz="0 0 -1" />
    <limit
      lower="-1.5708"
      upper="1.5708"
      effort="0"
      velocity="0" />
  </joint>
  <link
    name="LB_R_LINK">
    <inertial>
      <origin
        xyz="-5.55111512312578E-17 0 -2.77555756156289E-17"
        rpy="0 0 0" />
      <mass
        value="4.18879020478639E-06" />
      <inertia
        ixx="1.67551608191456E-12"
        ixy="3.58732406867153E-43"
        ixz="9.18354961579912E-41"
        iyy="1.67551608191456E-12"
        iyz="-4.37989597684327E-38"
        izz="1.67551608191456E-12" />
    </inertial>
    <visual>
      <origin
        xyz="0 0 0"
        rpy="0 0 0" />
      <geometry>
        <mesh
          filename="package://Leizhuo_UnderWaterHexapodRobot/meshes/LB_R_LINK.STL" />
      </geometry>
      <material
        name="">
        <color
          rgba="0.792156862745098 0.819607843137255 0.933333333333333 1" />
      </material>
    </visual>
    <collision>
      <origin
        xyz="0 0 0"
        rpy="0 0 0" />
      <geometry>
        <mesh
          filename="package://Leizhuo_UnderWaterHexapodRobot/meshes/LB_R_LINK.STL" />
      </geometry>
    </collision>
  </link>
  <joint
    name="LB_R_JOINT"
    type="revolute">
    <origin
      xyz="0.15047 0.0305 0"
      rpy="3.1416 -1.5708 0" />
    <parent
      link="LB_XI_LINK" />
    <child
      link="LB_R_LINK" />
    <axis
      xyz="0 0 -1" />
    <limit
      lower="-1.5708"
      upper="1.5708"
      effort="0"
      velocity="0" />
  </joint>
  <link
    name="LB_P_LINK">
    <inertial>
      <origin
        xyz="2.77555756156289E-17 0 -5.55111512312578E-17"
        rpy="0 0 0" />
      <mass
        value="4.18879020478639E-06" />
      <inertia
        ixx="1.67551608191456E-12"
        ixy="4.37989597684327E-38"
        ixz="0"
        iyy="1.67551608191456E-12"
        iyz="3.58732406867153E-43"
        izz="1.67551608191456E-12" />
    </inertial>
    <visual>
      <origin
        xyz="0 0 0"
        rpy="0 0 0" />
      <geometry>
        <mesh
          filename="package://Leizhuo_UnderWaterHexapodRobot/meshes/LB_P_LINK.STL" />
      </geometry>
      <material
        name="">
        <color
          rgba="0.792156862745098 0.819607843137255 0.933333333333333 1" />
      </material>
    </visual>
    <collision>
      <origin
        xyz="0 0 0"
        rpy="0 0 0" />
      <geometry>
        <mesh
          filename="package://Leizhuo_UnderWaterHexapodRobot/meshes/LB_P_LINK.STL" />
      </geometry>
    </collision>
  </link>
  <joint
    name="LB_P_JOINT"
    type="revolute">
    <origin
      xyz="0 0 0"
      rpy="0 1.5708 0" />
    <parent
      link="LB_R_LINK" />
    <child
      link="LB_P_LINK" />
    <axis
      xyz="0 0 -1" />
    <limit
      lower="-1.5708"
      upper="1.5708"
      effort="0"
      velocity="0" />
  </joint>
  <link
    name="LB_Y_LINK">
    <inertial>
      <origin
        xyz="2.77555756156289E-17 -5.55111512312578E-17 0"
        rpy="0 0 0" />
      <mass
        value="4.18879020478639E-06" />
      <inertia
        ixx="1.67551608191456E-12"
        ixy="-9.18354961579912E-41"
        ixz="-4.37988700853309E-38"
        iyy="1.67551608191456E-12"
        iyz="0"
        izz="1.67551608191456E-12" />
    </inertial>
    <visual>
      <origin
        xyz="0 0 0"
        rpy="0 0 0" />
      <geometry>
        <mesh
          filename="package://Leizhuo_UnderWaterHexapodRobot/meshes/LB_Y_LINK.STL" />
      </geometry>
      <material
        name="">
        <color
          rgba="0.792156862745098 0.819607843137255 0.933333333333333 1" />
      </material>
    </visual>
    <collision>
      <origin
        xyz="0 0 0"
        rpy="0 0 0" />
      <geometry>
        <mesh
          filename="package://Leizhuo_UnderWaterHexapodRobot/meshes/LB_Y_LINK.STL" />
      </geometry>
    </collision>
  </link>
  <joint
    name="LB_Y_JOINT"
    type="revolute">
    <origin
      xyz="0 0 0"
      rpy="1.5708 0 0" />
    <parent
      link="LB_P_LINK" />
    <child
      link="LB_Y_LINK" />
    <axis
      xyz="0 0 -1" />
    <limit
      lower="-1.5708"
      upper="1.5708"
      effort="0"
      velocity="0" />
  </joint>
  <link
    name="RB_JIAN_LINK">
    <inertial>
      <origin
        xyz="0.0196773637758696 0 -5.16151762313538E-06"
        rpy="0 0 0" />
      <mass
        value="0.0549972808983075" />
      <inertia
        ixx="4.23010594926854E-05"
        ixy="-9.93858875856596E-22"
        ixz="1.35585489027513E-09"
        iyy="2.86824937380955E-05"
        iyz="-1.56214791546156E-21"
        izz="2.6351810532033E-05" />
    </inertial>
    <visual>
      <origin
        xyz="0 0 0"
        rpy="0 0 0" />
      <geometry>
        <mesh
          filename="package://Leizhuo_UnderWaterHexapodRobot/meshes/RB_JIAN_LINK.STL" />
      </geometry>
      <material
        name="">
        <color
          rgba="0.752941176470588 0.752941176470588 0.752941176470588 1" />
      </material>
    </visual>
    <collision>
      <origin
        xyz="0 0 0"
        rpy="0 0 0" />
      <geometry>
        <mesh
          filename="package://Leizhuo_UnderWaterHexapodRobot/meshes/RB_JIAN_LINK.STL" />
      </geometry>
    </collision>
  </link>
  <joint
    name="RB_JIAN_JOINT"
    type="revolute">
    <origin
      xyz="-0.061 -0.14979 -0.0032"
      rpy="0 0 -1.5708" />
    <parent
      link="base_link" />
    <child
      link="RB_JIAN_LINK" />
    <axis
      xyz="0 0 1" />
    <limit
      lower="-1.5708"
      upper="1.5708"
      effort="0"
      velocity="0" />
  </joint>
  <link
    name="RB_ZHOU_LINK">
    <inertial>
      <origin
        xyz="0.0273253277440405 0.00746540118277407 4.77014552013322E-05"
        rpy="0 0 0" />
      <mass
        value="0.0896688686339838" />
      <inertia
        ixx="3.90649680814429E-05"
        ixy="7.26305459227443E-06"
        ixz="6.19794490507978E-08"
        iyy="4.18346884886829E-05"
        iyz="-1.14109816109859E-10"
        izz="2.91896419363059E-05" />
    </inertial>
    <visual>
      <origin
        xyz="0 0 0"
        rpy="0 0 0" />
      <geometry>
        <mesh
          filename="package://Leizhuo_UnderWaterHexapodRobot/meshes/RB_ZHOU_LINK.STL" />
      </geometry>
      <material
        name="">
        <color
          rgba="0.752941176470588 0.752941176470588 0.752941176470588 1" />
      </material>
    </visual>
    <collision>
      <origin
        xyz="0 0 0"
        rpy="0 0 0" />
      <geometry>
        <mesh
          filename="package://Leizhuo_UnderWaterHexapodRobot/meshes/RB_ZHOU_LINK.STL" />
      </geometry>
    </collision>
  </link>
  <joint
    name="RB_ZHOU_JOINT"
    type="revolute">
    <origin
      xyz="0.0415 -0.0004 0"
      rpy="1.5708 0 0" />
    <parent
      link="RB_JIAN_LINK" />
    <child
      link="RB_ZHOU_LINK" />
    <axis
      xyz="0 0 1" />
    <limit
      lower="-1.5708"
      upper="1.5708"
      effort="0"
      velocity="0" />
  </joint>
  <link
    name="RB_XI_LINK">
    <inertial>
      <origin
        xyz="0.0456240041232432 0.0167133031713129 -4.28951188230497E-05"
        rpy="0 0 0" />
      <mass
        value="0.151186314817192" />
      <inertia
        ixx="5.2575709535679E-05"
        ixy="-6.35546979946716E-06"
        ixz="4.66190861091123E-08"
        iyy="0.000227814075117787"
        iyz="7.31689308612038E-09"
        izz="0.000204493892166538" />
    </inertial>
    <visual>
      <origin
        xyz="0 0 0"
        rpy="0 0 0" />
      <geometry>
        <mesh
          filename="package://Leizhuo_UnderWaterHexapodRobot/meshes/RB_XI_LINK.STL" />
      </geometry>
      <material
        name="">
        <color
          rgba="0.752941176470588 0.752941176470588 0.752941176470588 1" />
      </material>
    </visual>
    <collision>
      <origin
        xyz="0 0 0"
        rpy="0 0 0" />
      <geometry>
        <mesh
          filename="package://Leizhuo_UnderWaterHexapodRobot/meshes/RB_XI_LINK.STL" />
      </geometry>
    </collision>
  </link>
  <joint
    name="RB_XI_JOINT"
    type="revolute">
    <origin
      xyz="0.063 0 -0.0004"
      rpy="0 0 -1.5708" />
    <parent
      link="RB_ZHOU_LINK" />
    <child
      link="RB_XI_LINK" />
    <axis
      xyz="0 0 -1" />
    <limit
      lower="-1.5708"
      upper="1.5708"
      effort="0"
      velocity="0" />
  </joint>
  <link
    name="RB_R_LINK">
    <inertial>
      <origin
        xyz="-5.55111512312578E-17 -2.77555756156289E-17 0"
        rpy="0 0 0" />
      <mass
        value="4.18879020478639E-06" />
      <inertia
        ixx="1.67551608191456E-12"
        ixy="3.58732406867153E-43"
        ixz="9.18354961579912E-41"
        iyy="1.67551608191456E-12"
        iyz="-4.37989597684327E-38"
        izz="1.67551608191456E-12" />
    </inertial>
    <visual>
      <origin
        xyz="0 0 0"
        rpy="0 0 0" />
      <geometry>
        <mesh
          filename="package://Leizhuo_UnderWaterHexapodRobot/meshes/RB_R_LINK.STL" />
      </geometry>
      <material
        name="">
        <color
          rgba="0.792156862745098 0.819607843137255 0.933333333333333 1" />
      </material>
    </visual>
    <collision>
      <origin
        xyz="0 0 0"
        rpy="0 0 0" />
      <geometry>
        <mesh
          filename="package://Leizhuo_UnderWaterHexapodRobot/meshes/RB_R_LINK.STL" />
      </geometry>
    </collision>
  </link>
  <joint
    name="RB_R_JOINT"
    type="revolute">
    <origin
      xyz="0.15047 0.0305 0"
      rpy="3.1416 1.5708 0" />
    <parent
      link="RB_XI_LINK" />
    <child
      link="RB_R_LINK" />
    <axis
      xyz="0 0 -1" />
    <limit
      lower="-1.5708"
      upper="1.5708"
      effort="0"
      velocity="0" />
  </joint>
  <link
    name="RB_P_LINK">
    <inertial>
      <origin
        xyz="2.77555756156289E-17 0 -5.55111512312578E-17"
        rpy="0 0 0" />
      <mass
        value="4.18879020478639E-06" />
      <inertia
        ixx="1.67551608191456E-12"
        ixy="4.37989597684327E-38"
        ixz="0"
        iyy="1.67551608191456E-12"
        iyz="3.58732406867153E-43"
        izz="1.67551608191456E-12" />
    </inertial>
    <visual>
      <origin
        xyz="0 0 0"
        rpy="0 0 0" />
      <geometry>
        <mesh
          filename="package://Leizhuo_UnderWaterHexapodRobot/meshes/RB_P_LINK.STL" />
      </geometry>
      <material
        name="">
        <color
          rgba="0.792156862745098 0.819607843137255 0.933333333333333 1" />
      </material>
    </visual>
    <collision>
      <origin
        xyz="0 0 0"
        rpy="0 0 0" />
      <geometry>
        <mesh
          filename="package://Leizhuo_UnderWaterHexapodRobot/meshes/RB_P_LINK.STL" />
      </geometry>
    </collision>
  </link>
  <joint
    name="RB_P_JOINT"
    type="revolute">
    <origin
      xyz="0 0 0"
      rpy="0 1.5708 0" />
    <parent
      link="RB_R_LINK" />
    <child
      link="RB_P_LINK" />
    <axis
      xyz="0 0 -1" />
    <limit
      lower="-1.5708"
      upper="1.5708"
      effort="0"
      velocity="0" />
  </joint>
  <link
    name="RB_Y_LINK">
    <inertial>
      <origin
        xyz="2.77555756156289E-17 -5.55111512312578E-17 0"
        rpy="0 0 0" />
      <mass
        value="4.18879020478639E-06" />
      <inertia
        ixx="1.67551608191456E-12"
        ixy="-9.18354961579912E-41"
        ixz="-4.37988700853309E-38"
        iyy="1.67551608191456E-12"
        iyz="0"
        izz="1.67551608191456E-12" />
    </inertial>
    <visual>
      <origin
        xyz="0 0 0"
        rpy="0 0 0" />
      <geometry>
        <mesh
          filename="package://Leizhuo_UnderWaterHexapodRobot/meshes/RB_Y_LINK.STL" />
      </geometry>
      <material
        name="">
        <color
          rgba="0.792156862745098 0.819607843137255 0.933333333333333 1" />
      </material>
    </visual>
    <collision>
      <origin
        xyz="0 0 0"
        rpy="0 0 0" />
      <geometry>
        <mesh
          filename="package://Leizhuo_UnderWaterHexapodRobot/meshes/RB_Y_LINK.STL" />
      </geometry>
    </collision>
  </link>
  <joint
    name="RB_Y_JOINT"
    type="revolute">
    <origin
      xyz="0 0 0"
      rpy="1.5708 0 0" />
    <parent
      link="RB_P_LINK" />
    <child
      link="RB_Y_LINK" />
    <axis
      xyz="0 0 -1" />
    <limit
      lower="-1.5708"
      upper="1.5708"
      effort="0"
      velocity="0" />
  </joint>
</robot>
